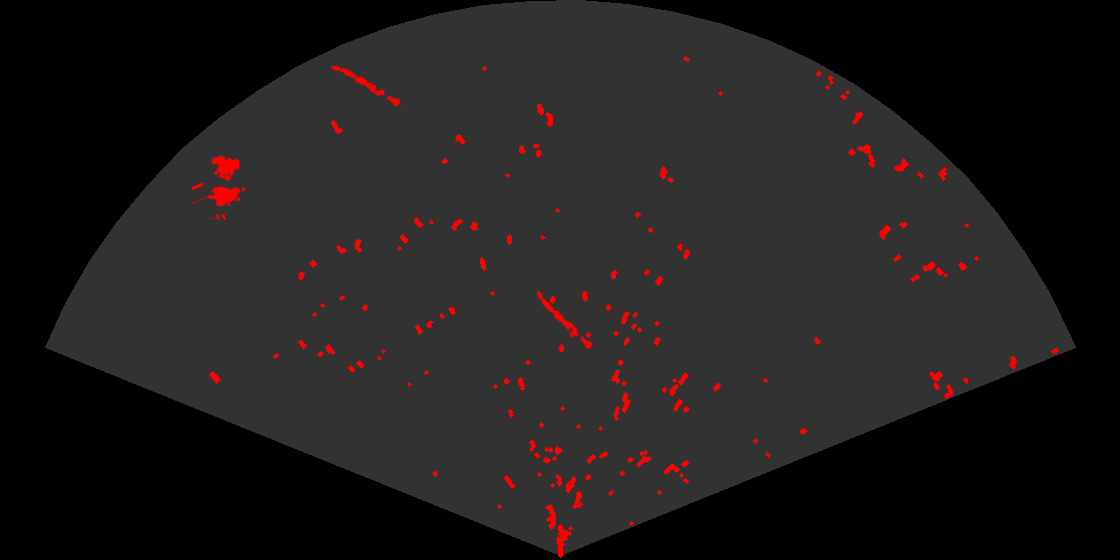cage: (192, 154, 247, 220)
chain: (535, 289, 598, 357), (329, 64, 409, 112)
